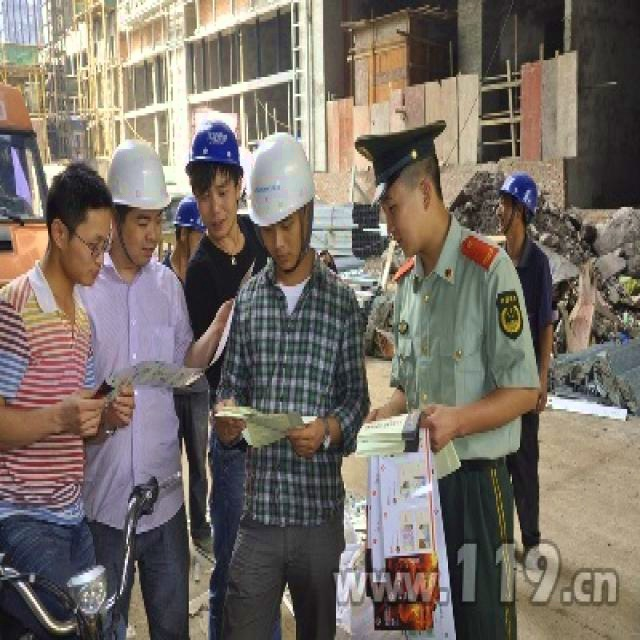Con_Casco: (250, 132, 314, 267), (184, 120, 243, 228)
Sin_Casco_Mascarrilla: (355, 118, 447, 250), (48, 165, 111, 280)
Sin_Chaleco: (238, 273, 353, 514)
